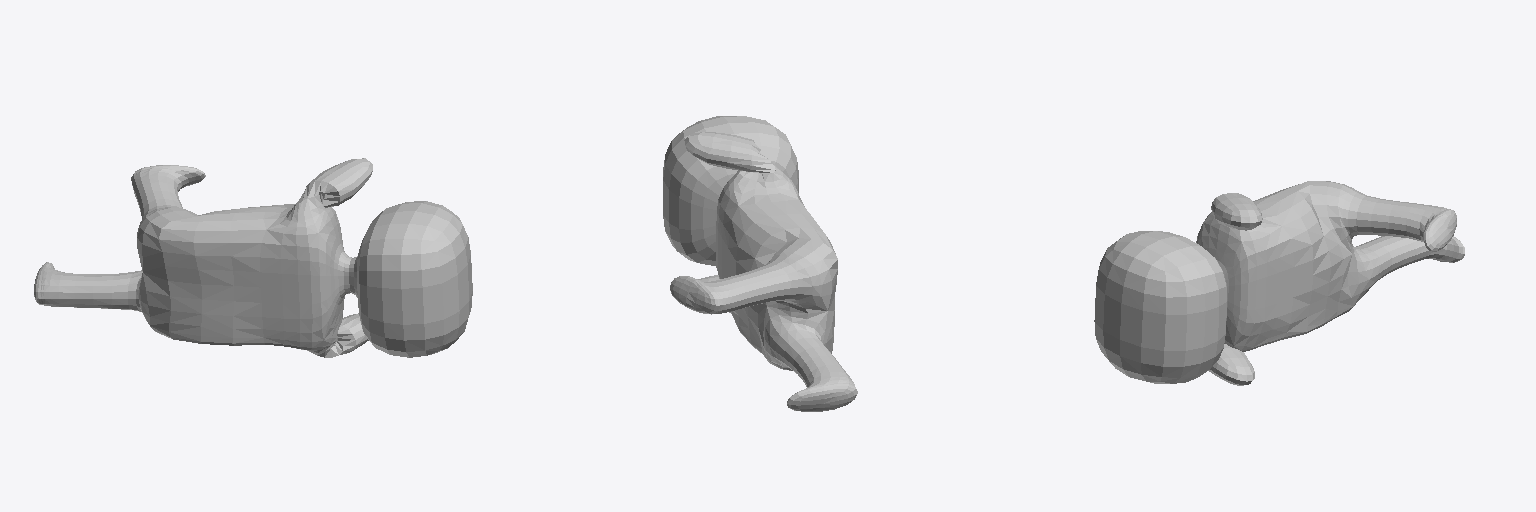
File: antman_push_14.obj
3 views of the same model, side by side, from view 1: azimuth 30°, elevation 25°; view 2: azimuth 150°, elevation 25°; view 3: azimuth 270°, elevation 25° (orthographic).
Parts seen in each view (by area): view 1: Cube; view 2: Cube; view 3: Cube.
Boxes of the visible parts, box(x1,y1,x2,y2) form: Cube: box(34, 158, 472, 357); Cube: box(663, 116, 857, 411); Cube: box(1094, 181, 1464, 385).
Size of the model in its own units: 1.53 by 0.8339 by 1.59.